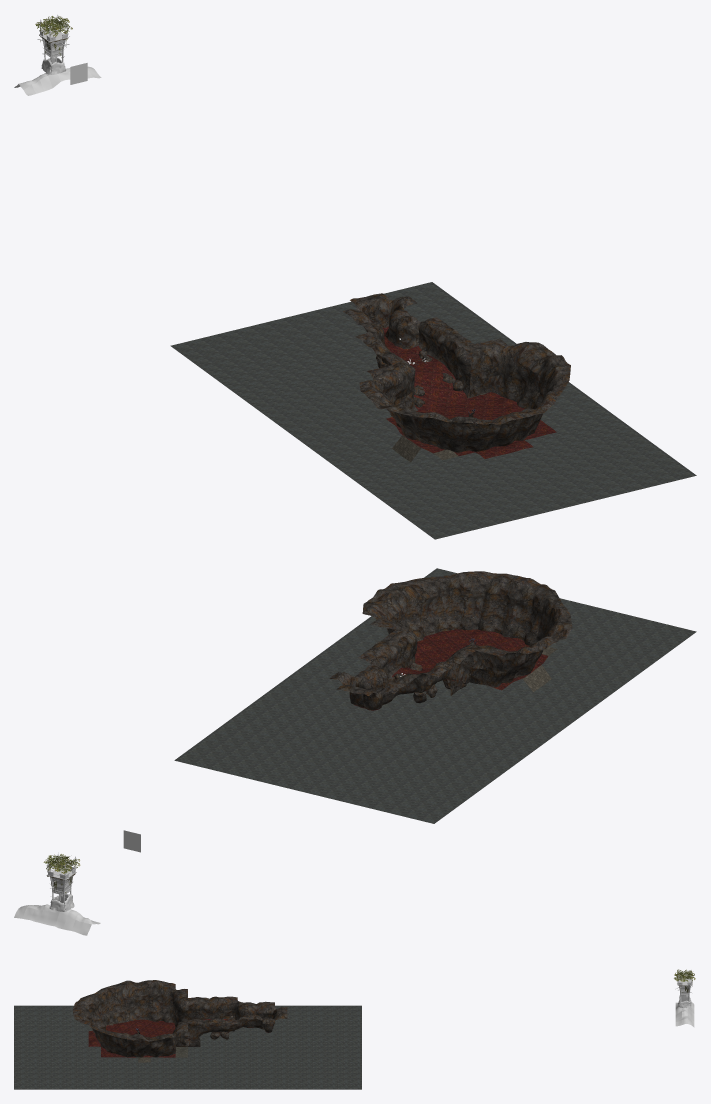
The model's file is map.obj.
3 renders of one model, top to bottom at view 1: azimuth 30°, elevation 25°; view 2: azimuth 150°, elevation 25°; view 3: azimuth 270°, elevation 25°, orthographic. The views are drawn at different scales.
Visible parts, largest first — view 1: VBSP_Object_model_0, VBSP_Object_model_instance_0_Body_woodentower_smd_mesh_0; view 2: VBSP_Object_model_0, VBSP_Object_model_instance_0_Body_woodentower_smd_mesh_0, VBSP_Object_model_instance_0_Body_woodentower_smd_mesh_1; view 3: VBSP_Object_model_0, VBSP_Object_model_instance_0_Body_woodentower_smd_mesh_0, VBSP_Object_model_instance_0_Body_woodentower_smd_mesh_1.
Part boxes in pixels (<box>): VBSP_Object_model_0: <box>14,63,696,539</box>; VBSP_Object_model_instance_0_Body_woodentower_smd_mesh_0: <box>37,15,69,74</box>; VBSP_Object_model_0: <box>14,568,696,935</box>; VBSP_Object_model_instance_0_Body_woodentower_smd_mesh_0: <box>46,853,76,911</box>; VBSP_Object_model_instance_0_Body_woodentower_smd_mesh_1: <box>43,854,80,892</box>; VBSP_Object_model_0: <box>14,980,694,1089</box>; VBSP_Object_model_instance_0_Body_woodentower_smd_mesh_0: <box>675,970,692,1007</box>; VBSP_Object_model_instance_0_Body_woodentower_smd_mesh_1: <box>674,969,695,992</box>.
Bounding box in the file's own units: 4096 × 1774 × 14070.
